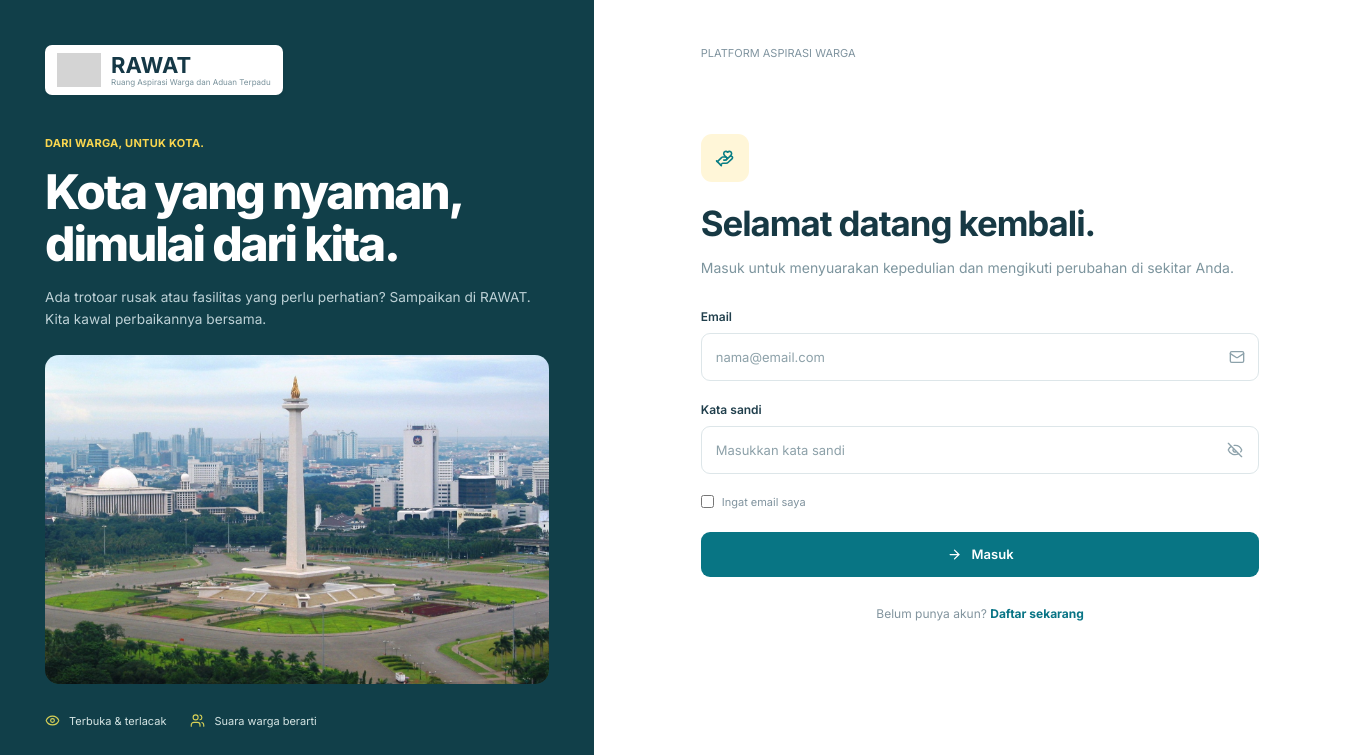
it: PenggunaView.handleRegister › C17-UT01 - Menolak NIK tidak valid
Click the button "Daftar sekarang" at [1037, 613], box [990,606,1084,621]
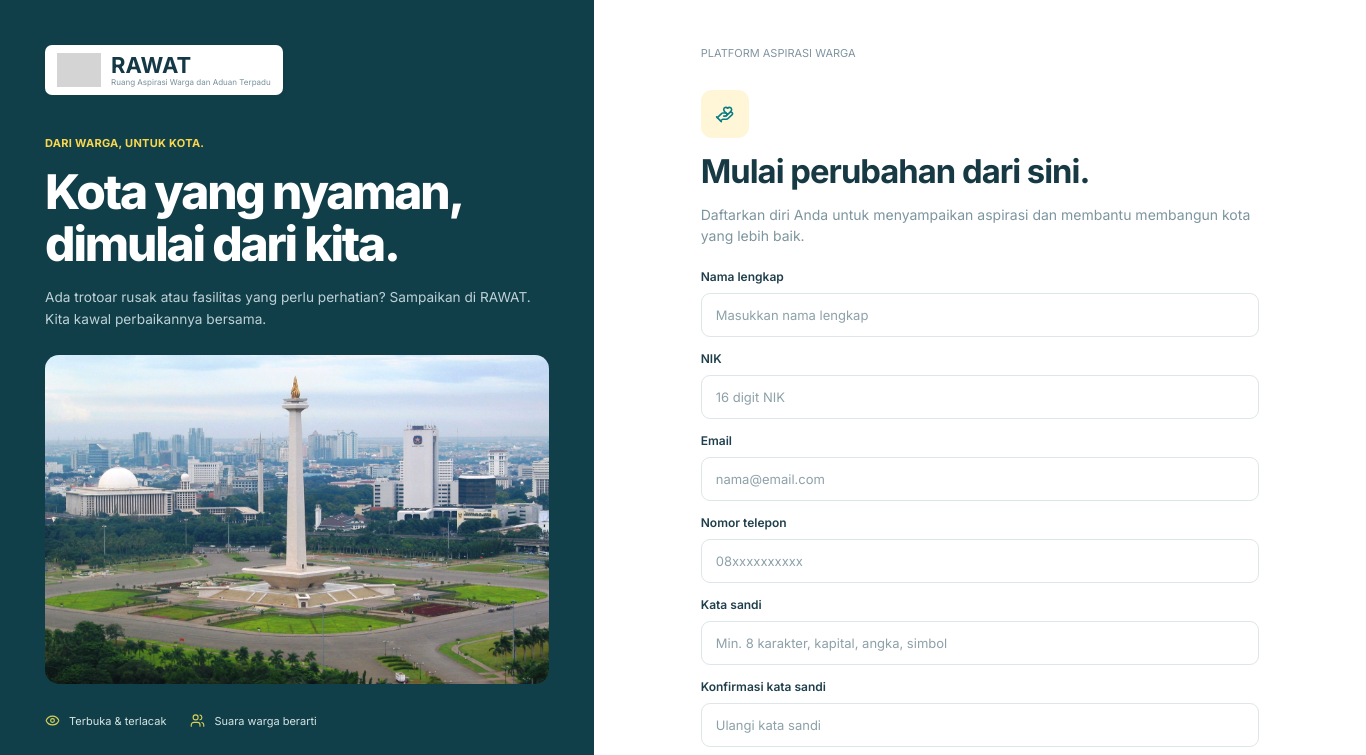
Type "Samantha" into the field labelled "Nama lengkap" at [980, 315], box [701,293,1260,337]
Type "12345" into the field labelled "NIK" at [980, 397], box [701,375,1260,419]
Type "samantha@example.com" into the field labelled "Email" at [980, 479], box [701,457,1260,501]
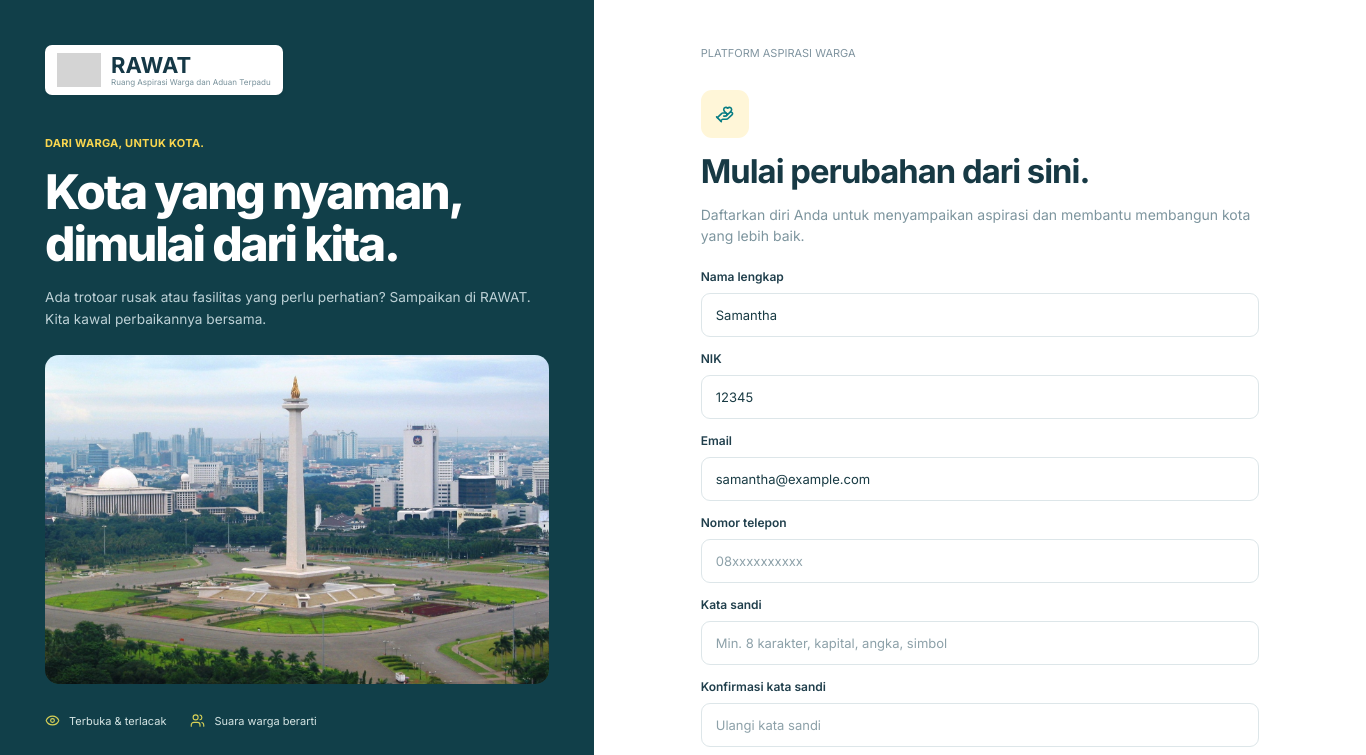
Type "081234567890" into the field labelled "Nomor telepon" at [980, 561], box [701,539,1260,583]
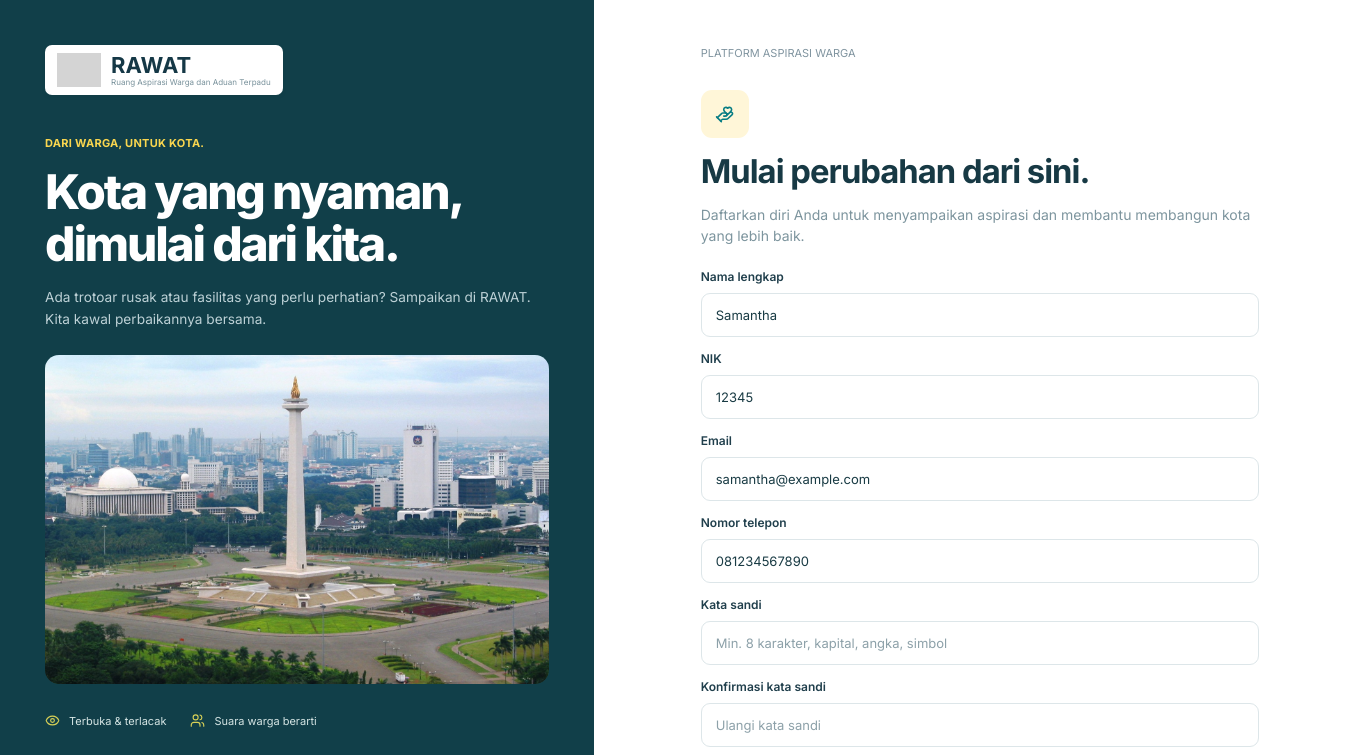
Type "Password1!" into the password field labelled "Kata sandi" at [980, 643], box [701,621,1260,665]
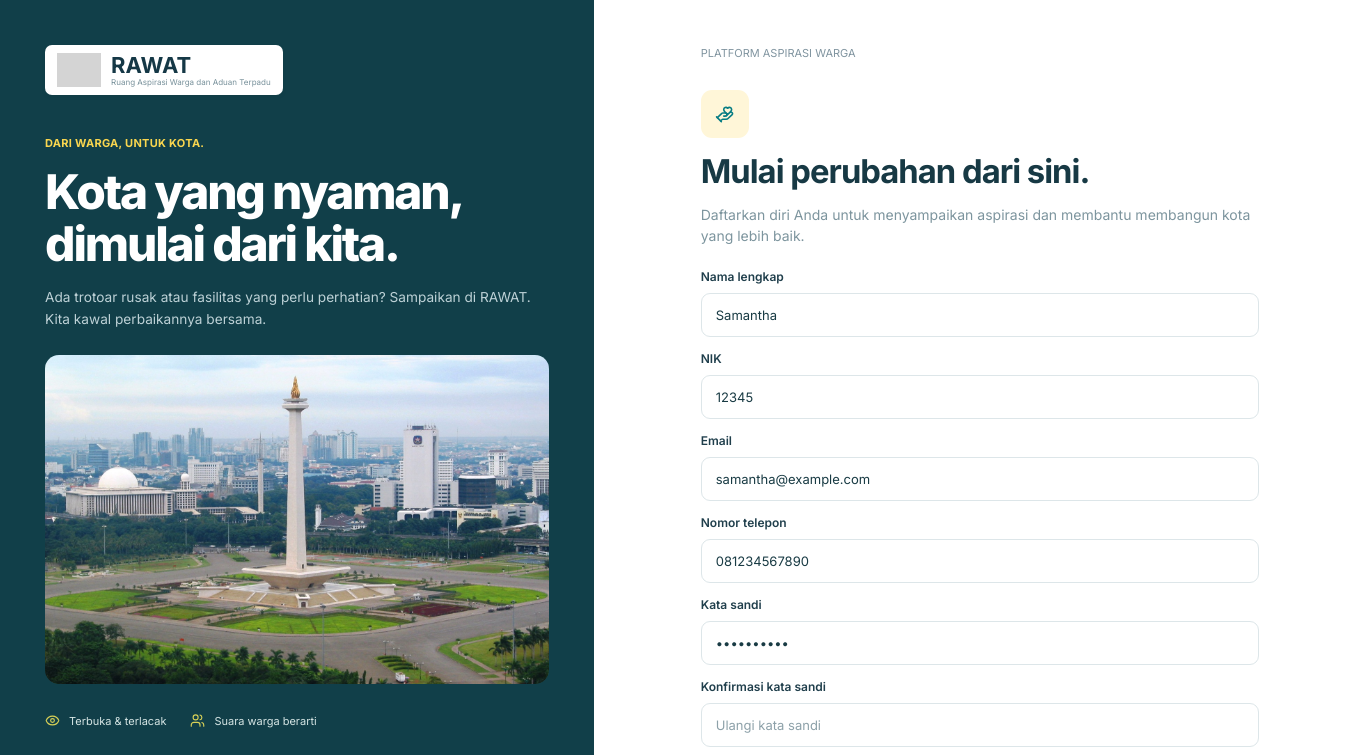
Type "Password1!" into the password field labelled "Konfirmasi kata sandi" at [980, 725], box [701,703,1260,747]
(page scrolled)
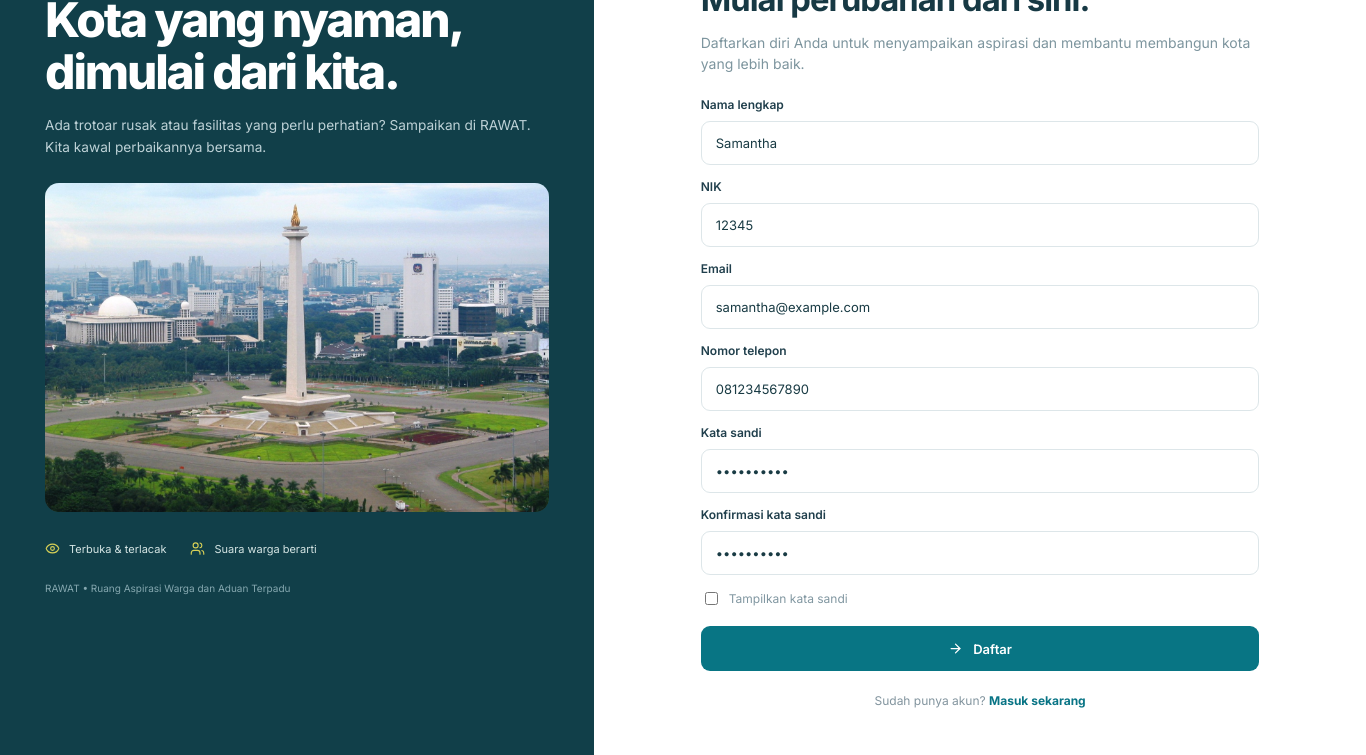
Submit the form named "daftar", box [701,97,1260,671]
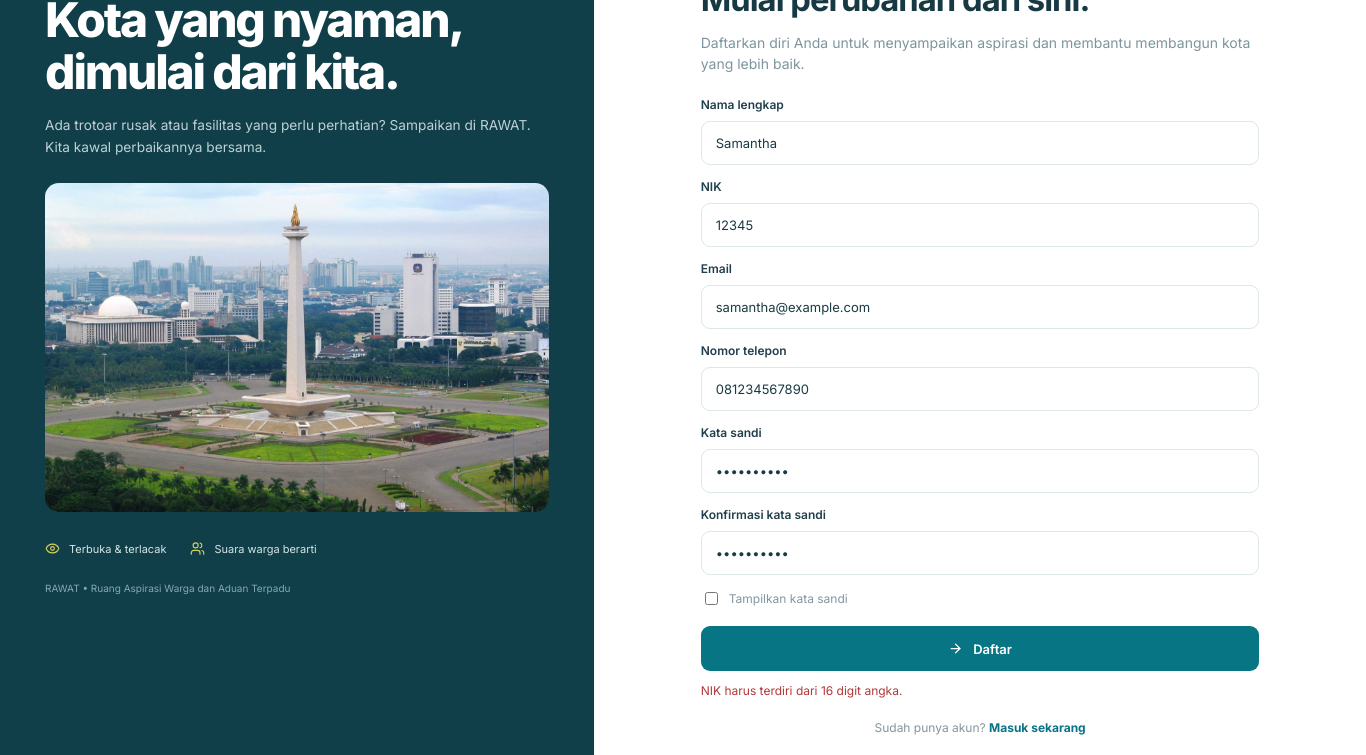
Now the text "NIK harus terdiri dari 16 digit angka." is shown, box [701,683,902,698]
